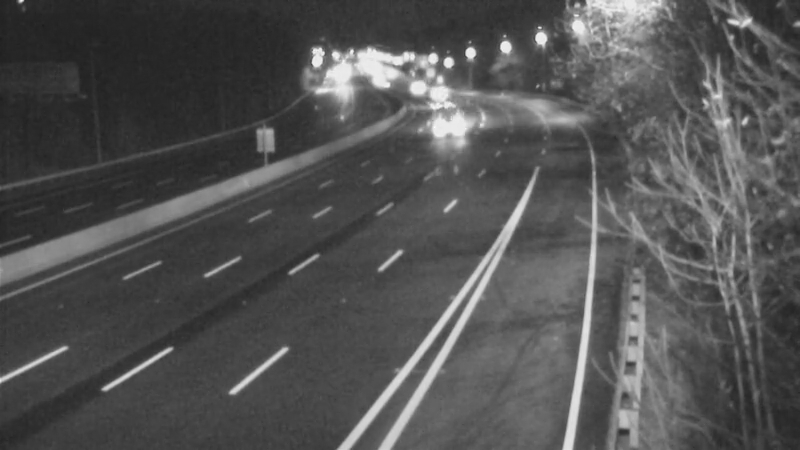vehicle: (390, 62, 440, 112), (411, 71, 461, 121), (423, 78, 473, 128), (419, 104, 469, 154)
